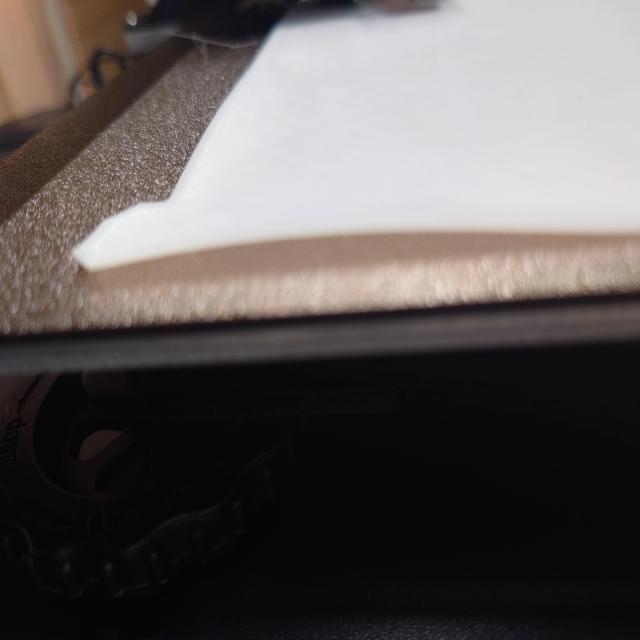Warping: (134, 219, 318, 273), (456, 216, 632, 266), (321, 216, 453, 269)
